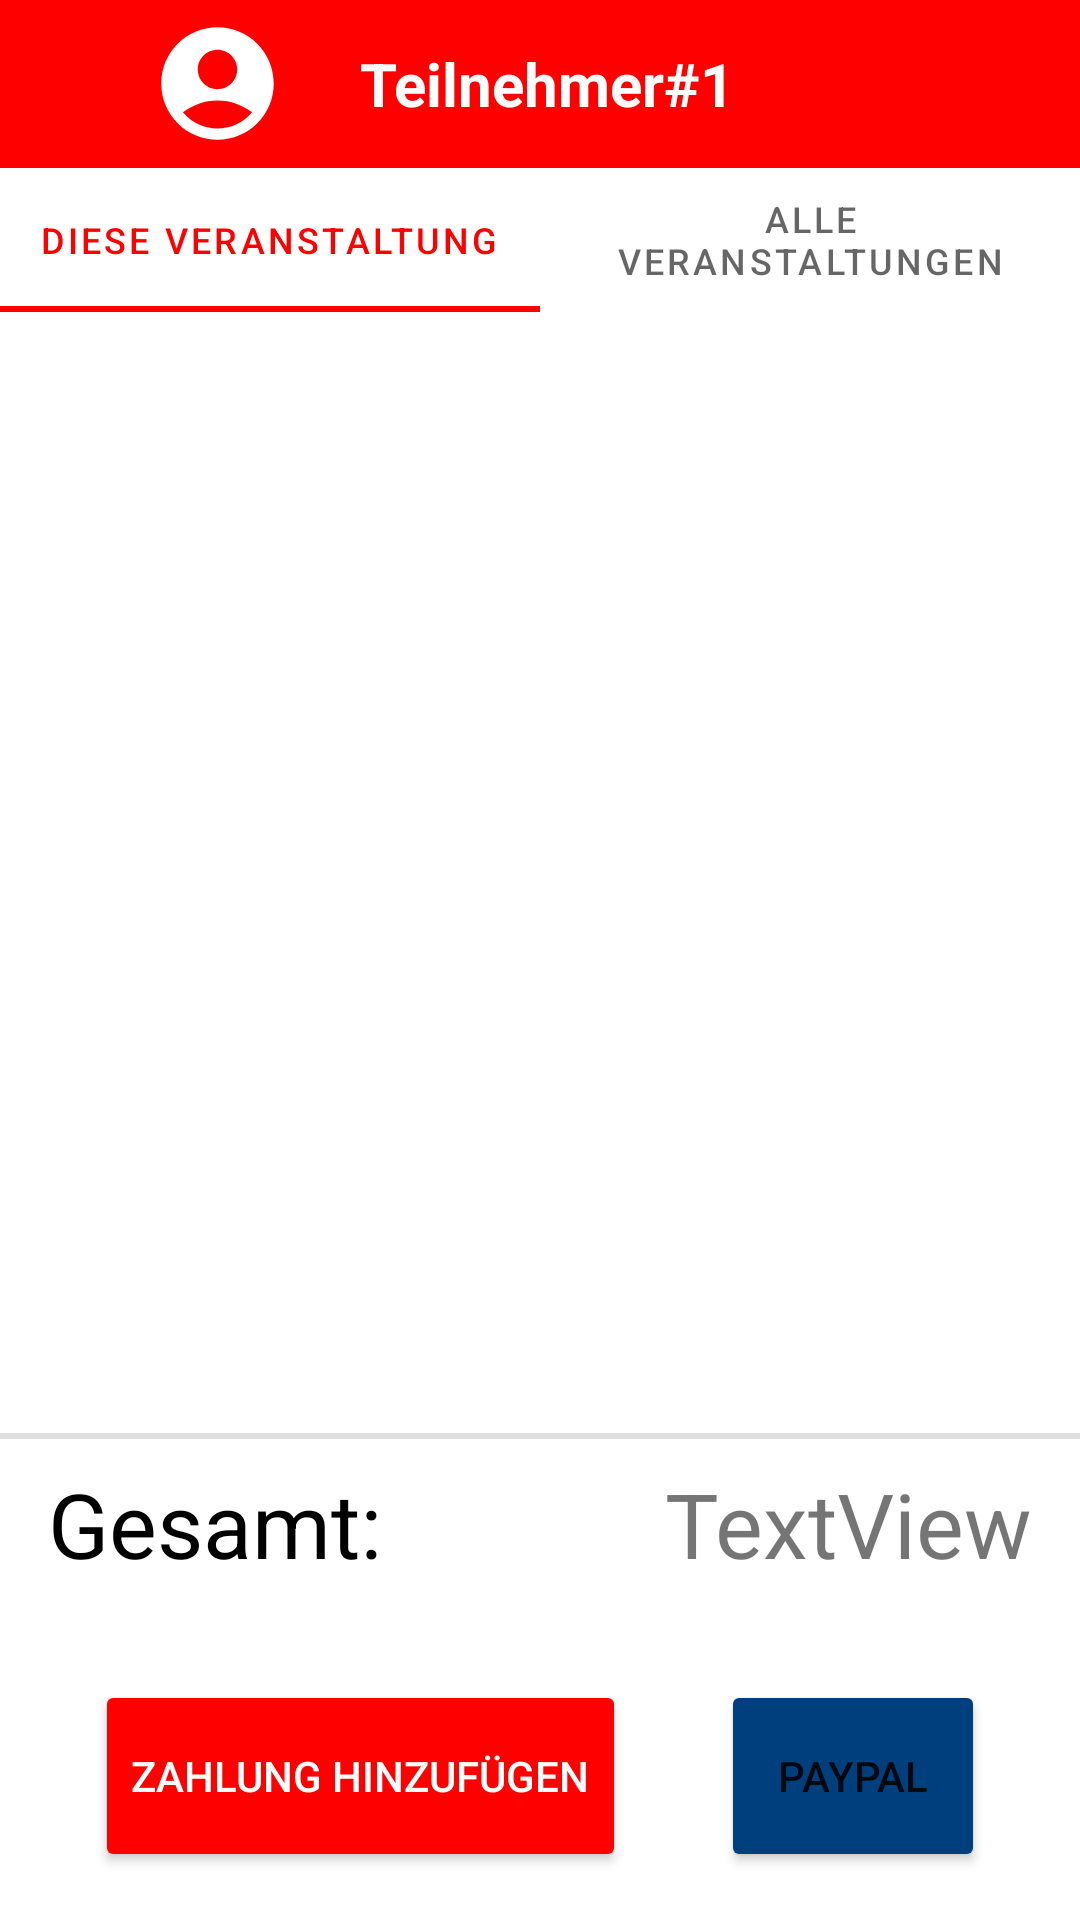

Icons on this 1080px×1920px Android screen, each with its box as (x1, y1, x2, y2):
account circle: (161, 27, 274, 140)
